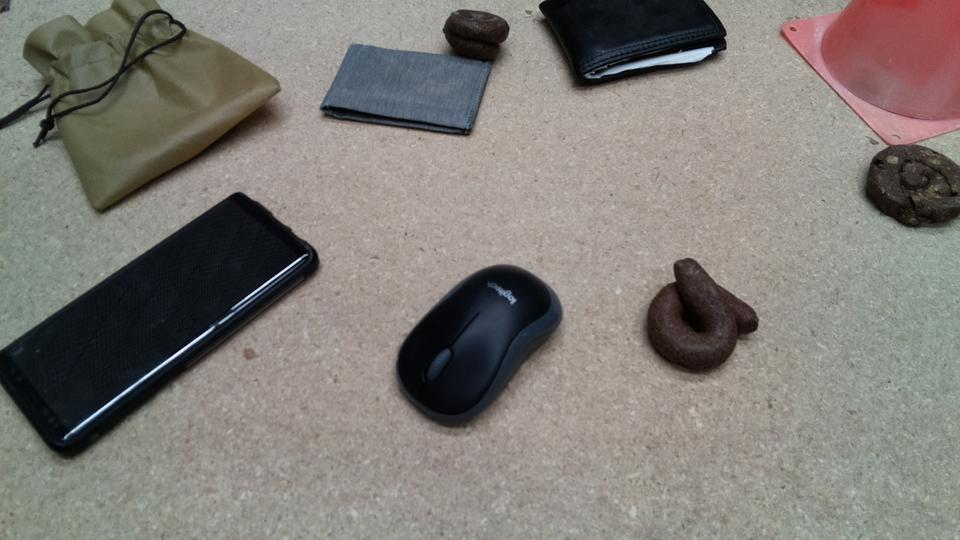poop: (641, 256, 762, 376), (862, 140, 960, 230), (439, 6, 512, 63)
